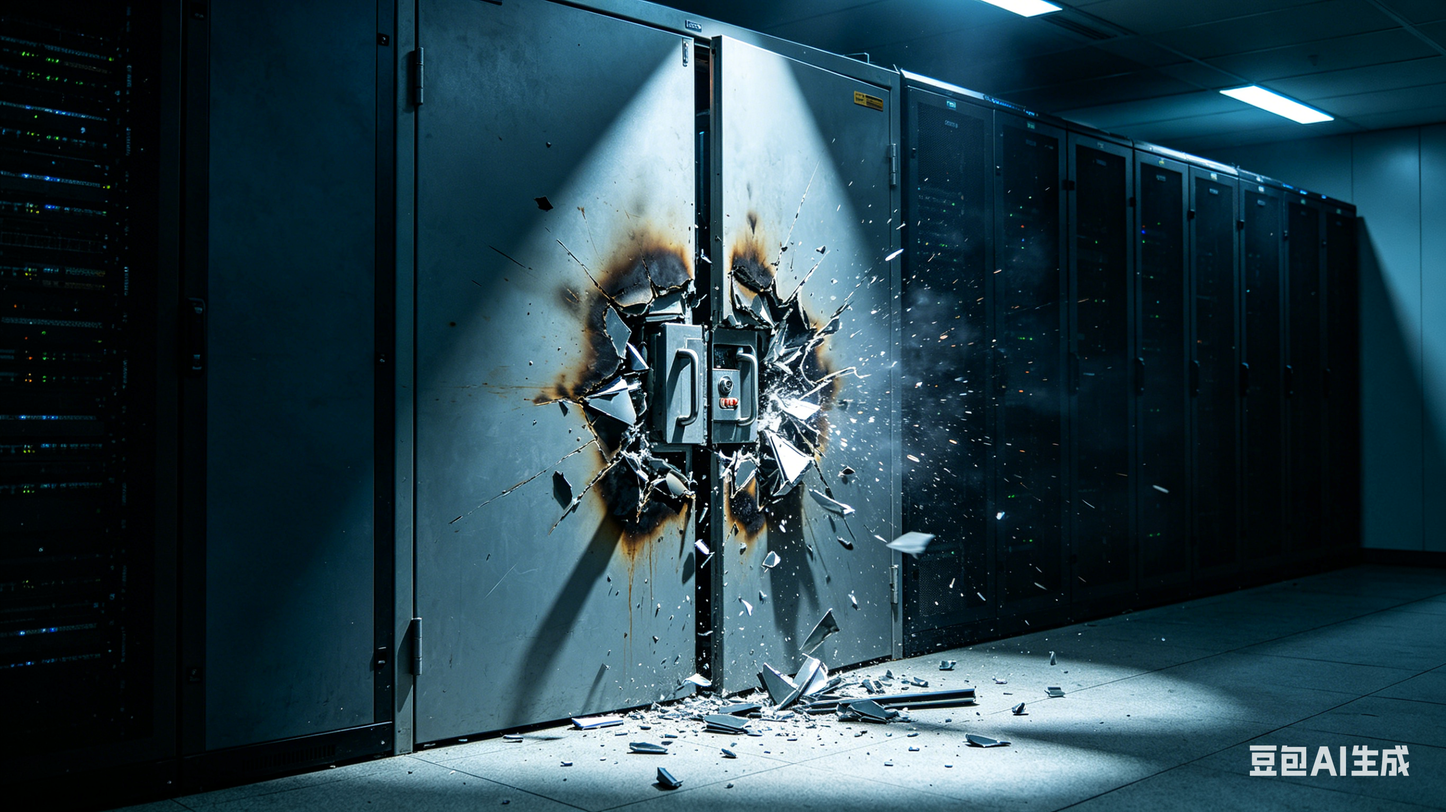BadLock: (589, 276, 833, 496)
